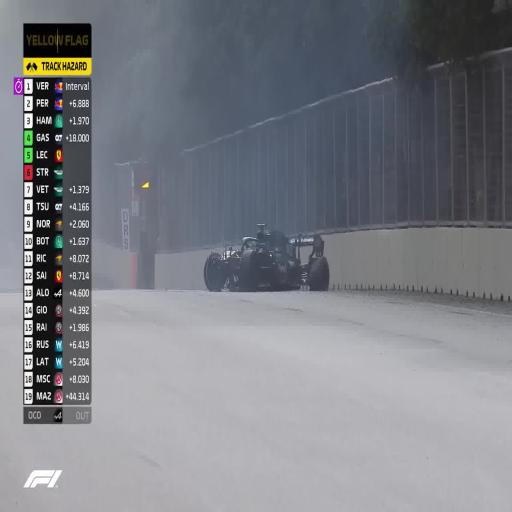f1_car: (203, 224, 329, 291)
